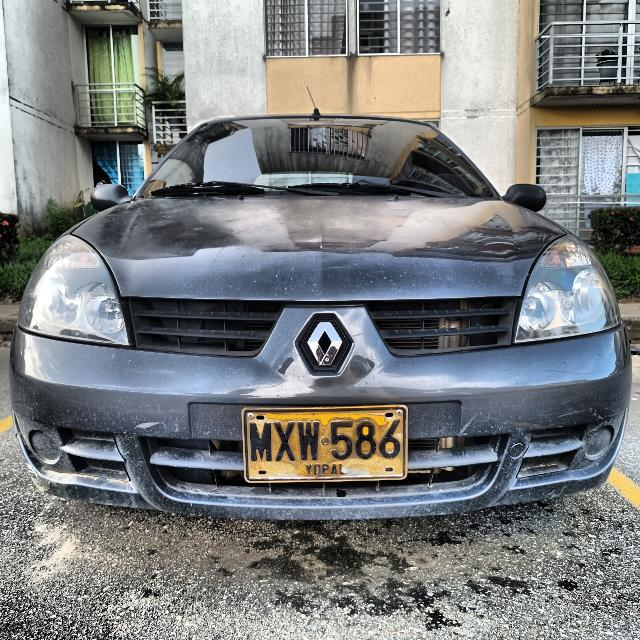plate: (244, 407, 405, 481)
